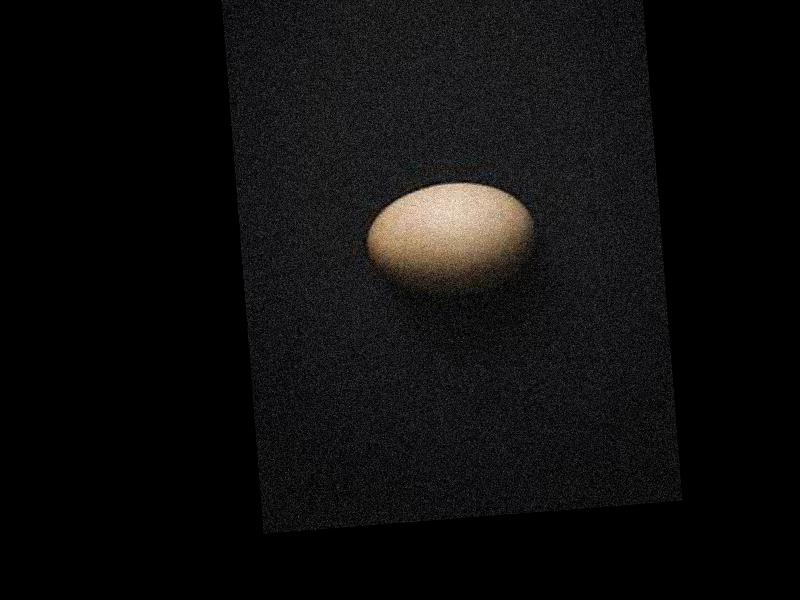Eggs: (358, 177, 541, 298)
